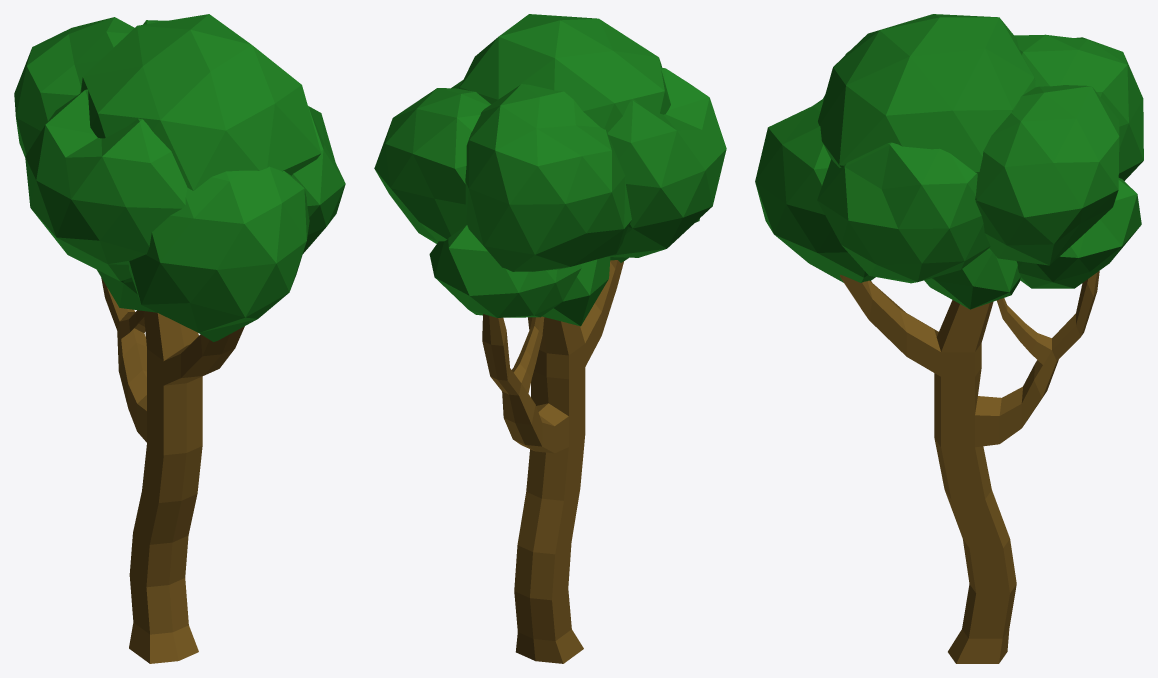
Rendered from pom_2.fbx.
3 views of the same model, side by side, from view 1: azimuth 30°, elevation 25°; view 2: azimuth 150°, elevation 25°; view 3: azimuth 270°, elevation 25° (orthographic). The views are drawn at different scales.
Visible parts, largest first — view 1: Icosphere.011, Cube.005, Icosphere.008, Icosphere.007, Icosphere.005, Icosphere.010, Icosphere.009; view 2: Icosphere.005, Cube.005, Icosphere.011, Icosphere.007, Icosphere.006, Icosphere.012, Icosphere.009; view 3: Cube.005, Icosphere.011, Icosphere.006, Icosphere.010, Icosphere.008, Icosphere.005, Icosphere.012, Icosphere.009.
Boxes of the visible parts, x1,y1,x2,y2 form: Icosphere.011: (80, 14, 321, 190); Cube.005: (101, 277, 244, 663); Icosphere.008: (128, 166, 309, 341); Icosphere.007: (25, 89, 187, 281); Icosphere.005: (14, 17, 134, 157); Icosphere.010: (292, 106, 345, 253); Icosphere.009: (97, 270, 156, 312); Icosphere.005: (465, 84, 631, 271); Cube.005: (482, 260, 623, 663); Icosphere.011: (459, 14, 670, 132); Icosphere.007: (606, 67, 726, 257); Icosphere.006: (374, 88, 490, 243); Icosphere.012: (429, 225, 581, 317); Icosphere.009: (542, 257, 610, 326); Cube.005: (840, 271, 1099, 663); Icosphere.011: (818, 14, 1035, 173); Icosphere.006: (975, 85, 1119, 265); Icosphere.010: (817, 142, 990, 283); Icosphere.008: (755, 98, 875, 282); Icosphere.005: (1014, 34, 1143, 180); Icosphere.012: (1016, 178, 1141, 288); Icosphere.009: (924, 248, 1020, 309).
Bounding box in the file's own units: 1541 × 3197 × 1765.
